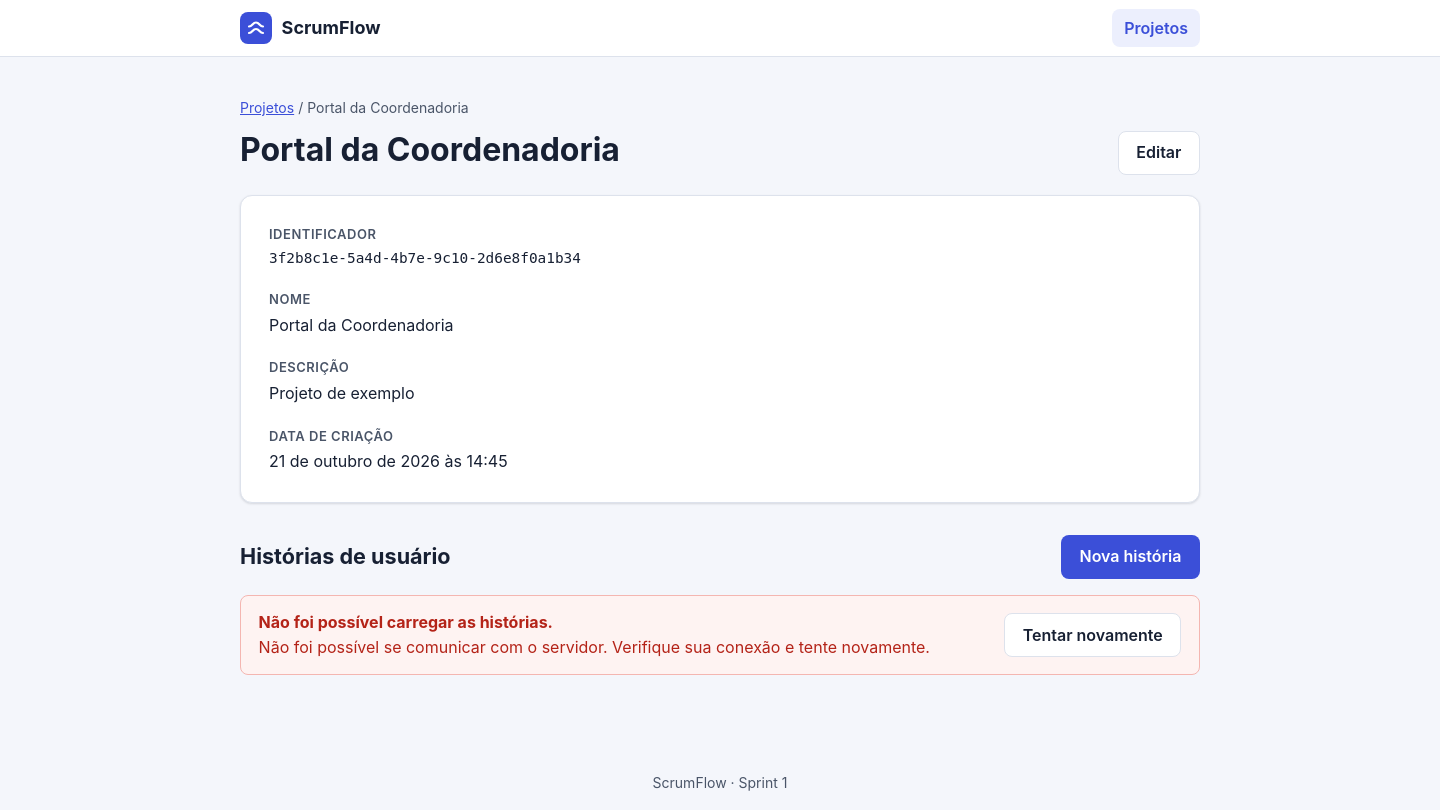
Scenario: Seção 'Histórias de usuário' na página de detalhes › falha ao carregar mostra erro e 'Tentar novamente' recupera (AC09 / req. 14)
This screenshot has width=1440, height=810.
Expected: the text "Não foi possível carregar as histórias." is shown, x1=259 y1=612 x2=553 y2=632
Click the button "Tentar novamente" at (1093, 635), box x1=1004 y1=613 x2=1181 y2=657
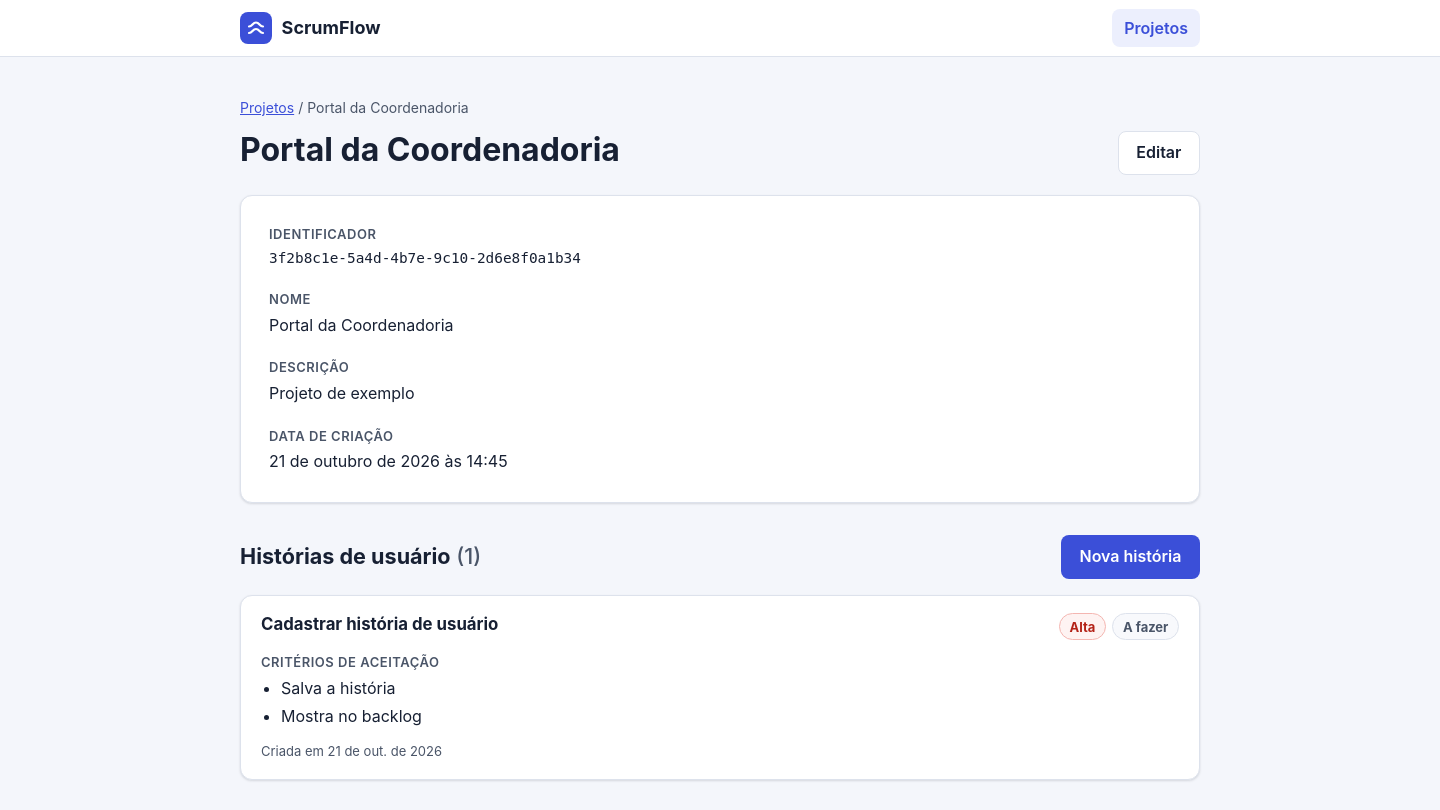
Expected: the element that starts with "Cadastrar história de usuário" is shown, x1=240 y1=595 x2=1200 y2=780
